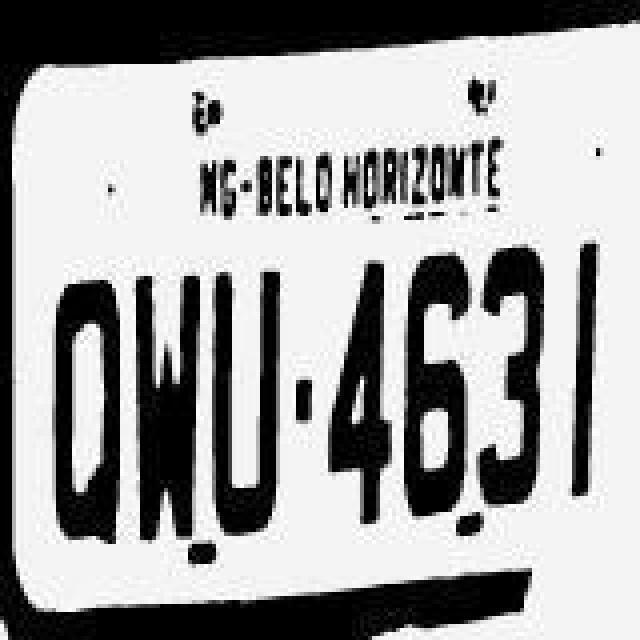1: (558, 232, 610, 504)
3: (474, 242, 550, 510)
4: (324, 254, 396, 530)
6: (400, 250, 480, 534)
Q: (44, 212, 124, 484)
U: (210, 262, 286, 546)
W: (132, 264, 204, 552)
